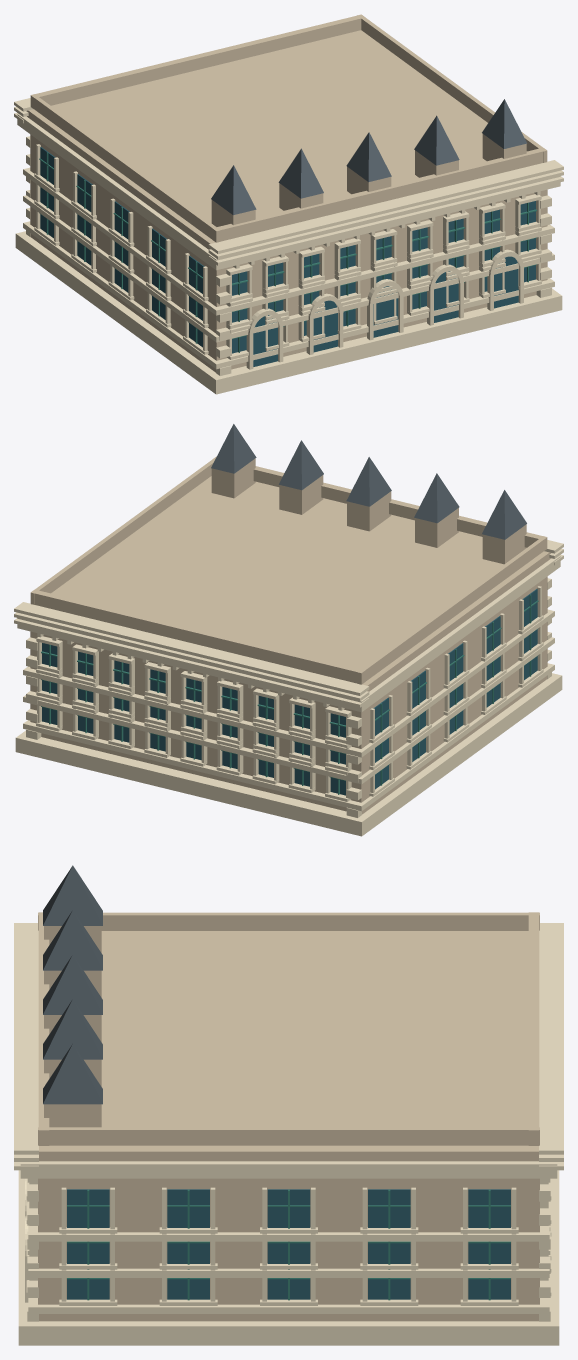
File: imperial-bank.glb
The picture shows the model from 3 angles, top to bottom: view 1: azimuth 30°, elevation 25°; view 2: azimuth 150°, elevation 25°; view 3: azimuth 270°, elevation 25°; orthographic projection. The views are drawn at different scales.
Visible parts, largest first — view 1: imperial-bank; view 2: imperial-bank; view 3: imperial-bank.
Boxes of the visible parts, bbox=[...] form: imperial-bank: bbox=[14, 14, 563, 394]; imperial-bank: bbox=[14, 424, 563, 836]; imperial-bank: bbox=[14, 865, 563, 1345].
Bounding box in the file's own units: 35.89 × 20.4 × 36.64.
